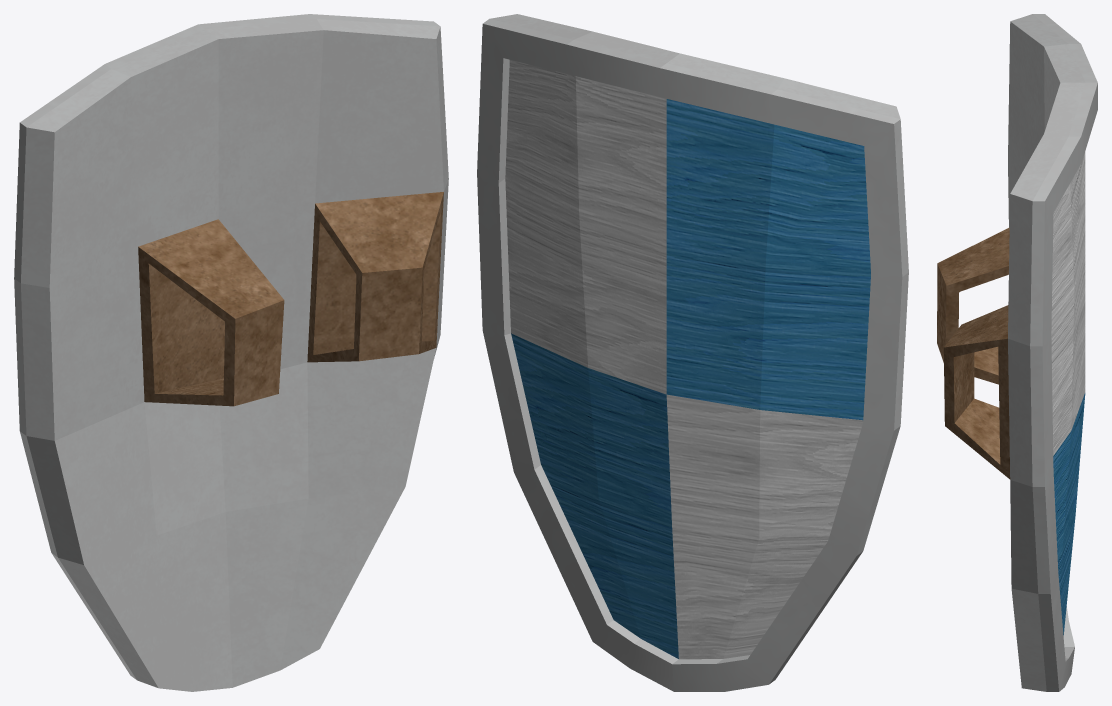
Rendered from SoldierShield.fbx.
The picture shows the model from 3 angles, left to right: view 1: azimuth 30°, elevation 25°; view 2: azimuth 150°, elevation 25°; view 3: azimuth 270°, elevation 25°; orthographic projection. The views are drawn at different scales.
Visible parts, largest first — view 1: SoldierShield; view 2: SoldierShield; view 3: SoldierShield.
Boxes of the visible parts, left/top/right/bottom form: SoldierShield: left=14, top=14, right=448, bottom=691; SoldierShield: left=477, top=14, right=908, bottom=691; SoldierShield: left=937, top=14, right=1097, bottom=691.
Bounding box in the file's own units: 1.08 × 1.53 × 0.378.
